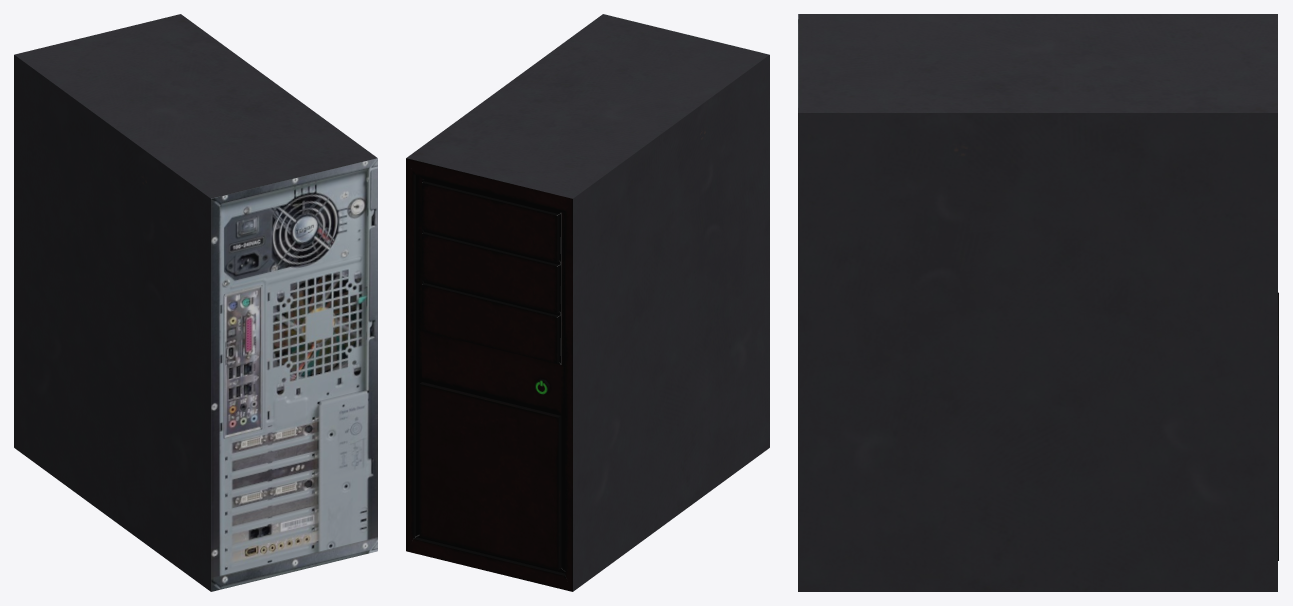
Rendered from Comp.fbx.
The picture shows the model from 3 angles, left to right: view 1: azimuth 30°, elevation 25°; view 2: azimuth 150°, elevation 25°; view 3: azimuth 270°, elevation 25°; orthographic projection. The views are drawn at different scales.
Parts seen in each view (by area): view 1: Object_2.001; view 2: Object_2.001; view 3: Object_2.001.
Part boxes in pixels (bbox=[...]): Object_2.001: bbox=[14, 14, 377, 591]; Object_2.001: bbox=[406, 14, 769, 591]; Object_2.001: bbox=[798, 14, 1278, 591].
Size of the model in its own units: 32.05 by 72.22 by 65.73.
Materials: 1 (1 with a texture image).
